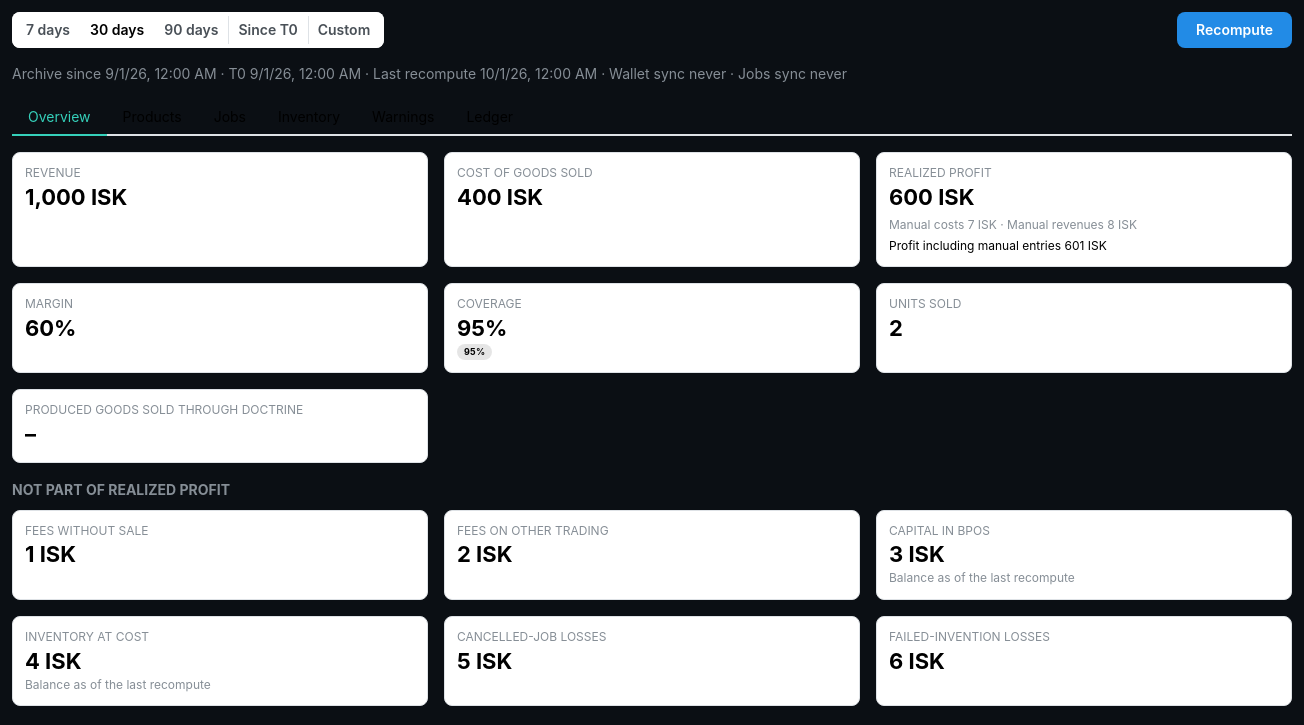
Test case: RealizedProfit › shows planned cost and the difference from realized cost
The image size is (1304, 725).
Check: the text "Cost of goods sold" is shown, box [457,165,593,180]
Click the tab "Products": (152, 118) [107,100,198,136]
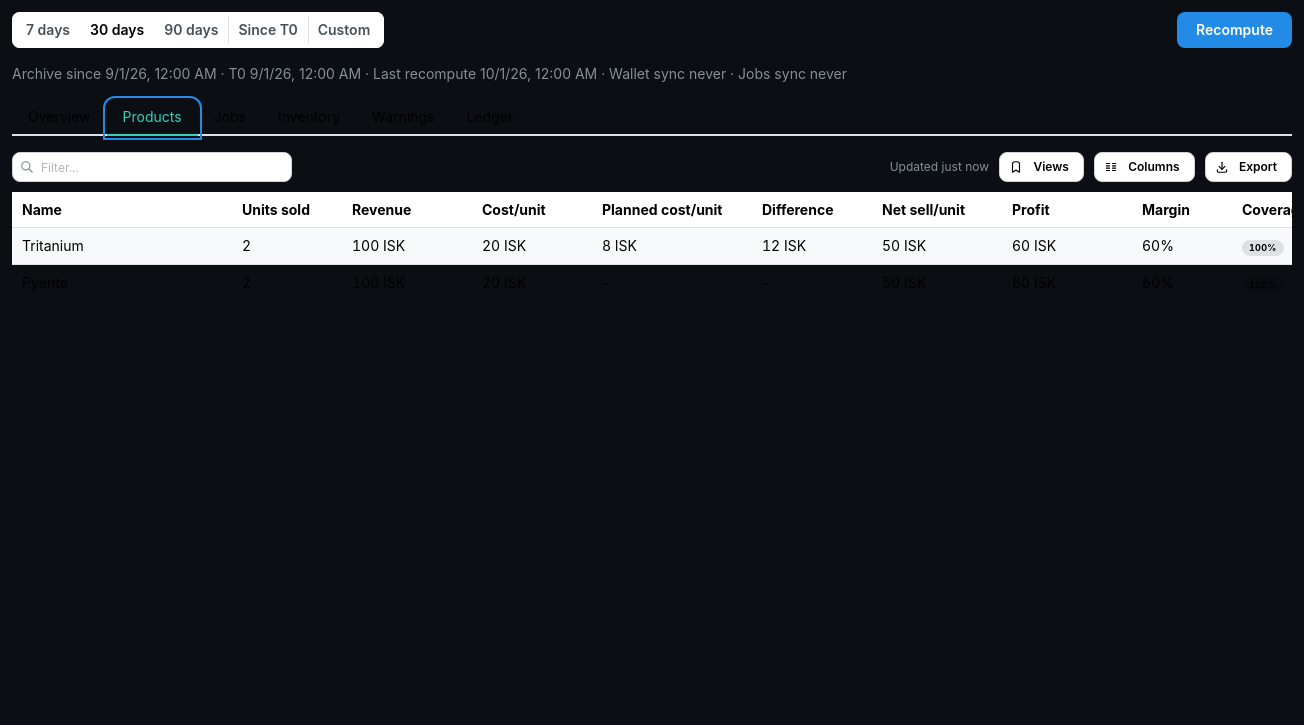
Check: the text "8 ISK" is shown, box [592,228,752,264]
Check: the button "Planned cost/unit" is shown, box [592,192,752,228]
Check: the text "12 ISK" is shown, box [752,228,872,264]
